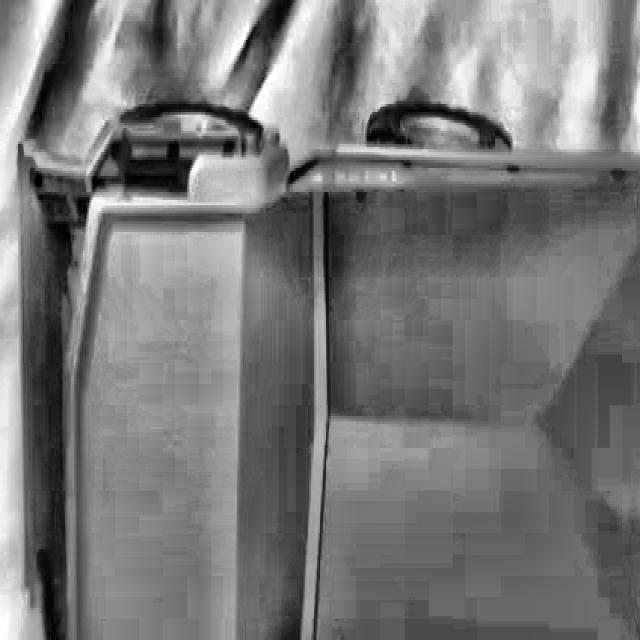dump_truck: (27, 90, 640, 640)
